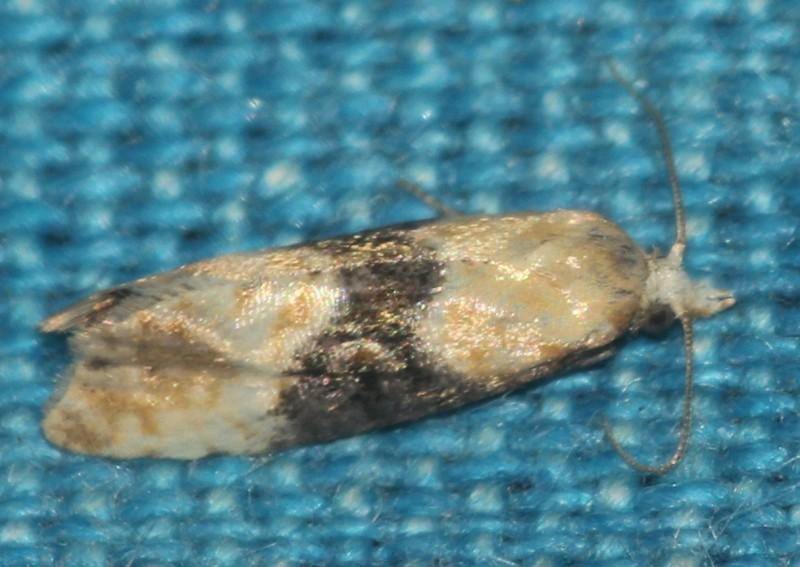Eupoecilia Ambiguella: (34, 53, 738, 480)
